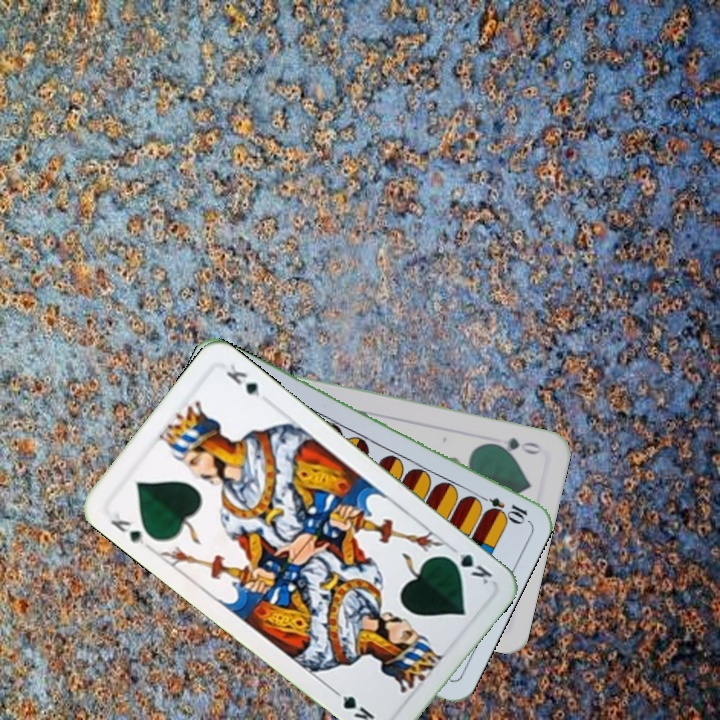E10: (473, 490, 530, 525)
GK: (441, 548, 495, 587), (106, 508, 149, 548)
GO: (486, 433, 544, 458)
